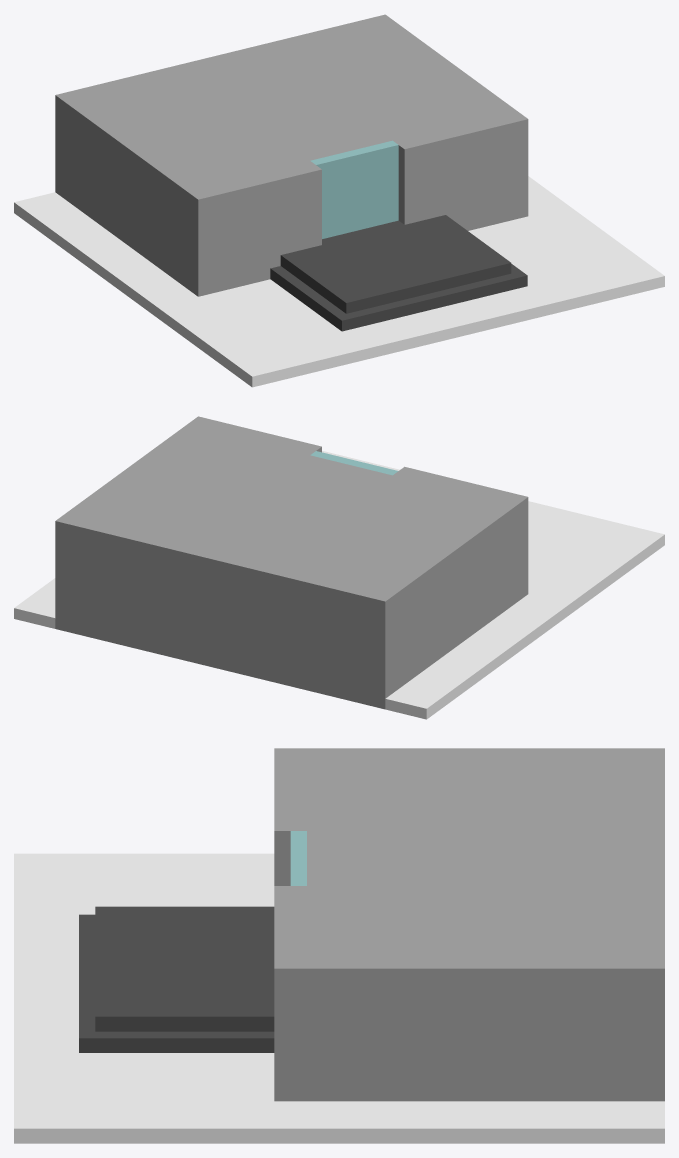
Rendered from building_f1.obj.
3 renders of one model, top to bottom at view 1: azimuth 30°, elevation 25°; view 2: azimuth 150°, elevation 25°; view 3: azimuth 270°, elevation 25°, orthographic. The views are drawn at different scales.
Parts seen in each view (by area): view 1: building_f1; view 2: building_f1; view 3: building_f1.
Boxes of the visible parts, x1,y1,x2,y2 form: building_f1: (14, 14, 664, 387); building_f1: (14, 416, 664, 719); building_f1: (14, 748, 664, 1143).
Bounding box in the file's own units: 4 × 1 × 4.
Materials: 1 (1 with a texture image).
